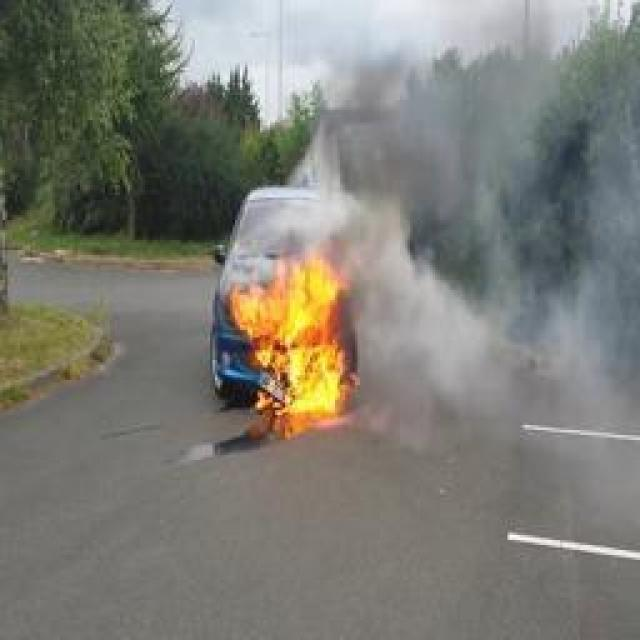Fire: (230, 255, 352, 413)
